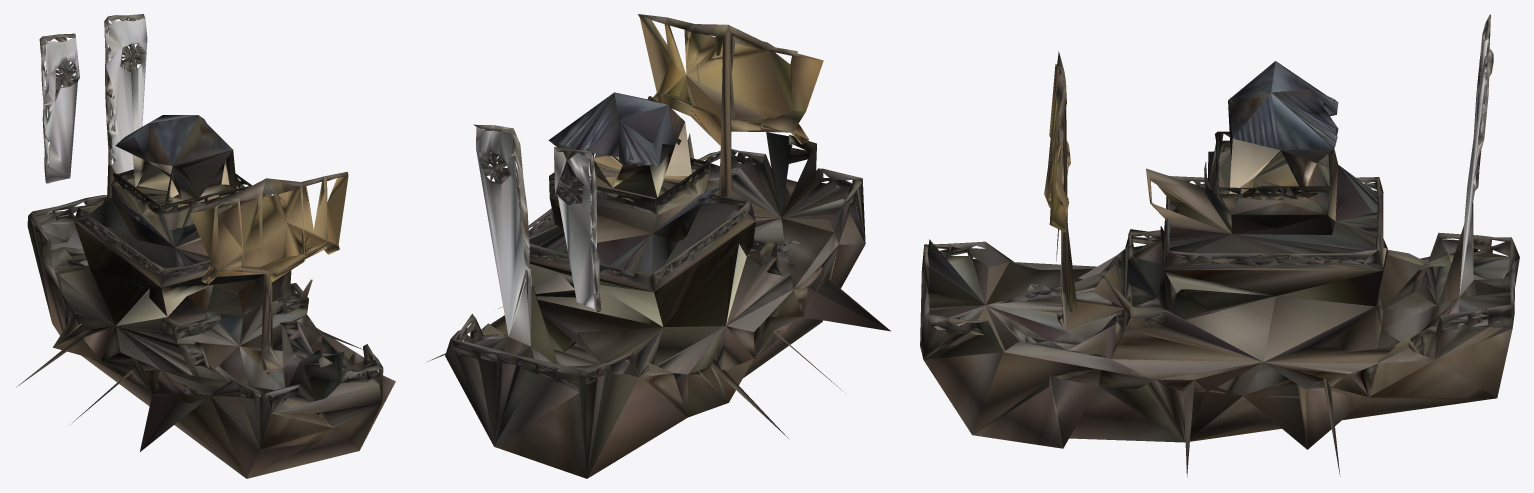
File: atakebune_v2_lod2.glb
3 views of the same model, side by side, from view 1: azimuth 30°, elevation 25°; view 2: azimuth 150°, elevation 25°; view 3: azimuth 270°, elevation 25° (orthographic). The views are drawn at different scales.
Visible parts, largest first — view 1: tripo_node_bc7dfa33-cd50-4e10-bcb6-1b44ff95aea6; view 2: tripo_node_bc7dfa33-cd50-4e10-bcb6-1b44ff95aea6; view 3: tripo_node_bc7dfa33-cd50-4e10-bcb6-1b44ff95aea6.
Boxes of the visible parts, box(x1,y1,x2,y2) form: tripo_node_bc7dfa33-cd50-4e10-bcb6-1b44ff95aea6: box(16, 14, 395, 478); tripo_node_bc7dfa33-cd50-4e10-bcb6-1b44ff95aea6: box(427, 14, 890, 478); tripo_node_bc7dfa33-cd50-4e10-bcb6-1b44ff95aea6: box(920, 14, 1519, 476).
Size of the model in its own units: 0.6863 by 0.6448 by 0.9466.
Materials: 1 (1 with a texture image).
